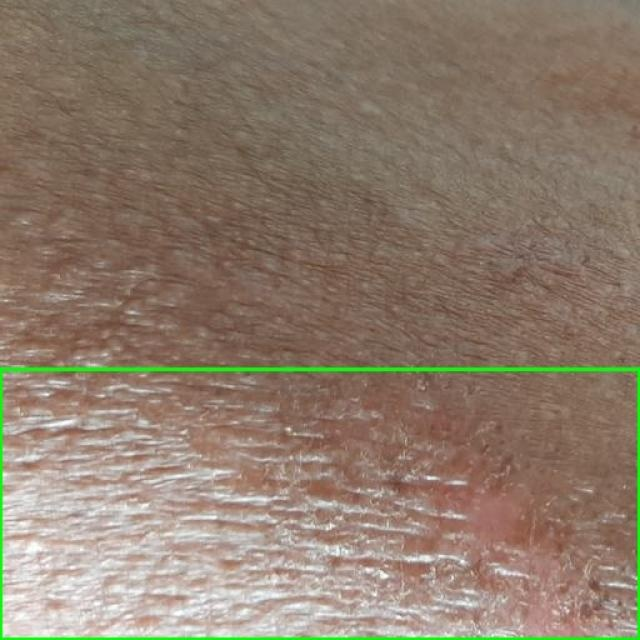Seborrheic Dermatitis: (0, 369, 639, 639)
